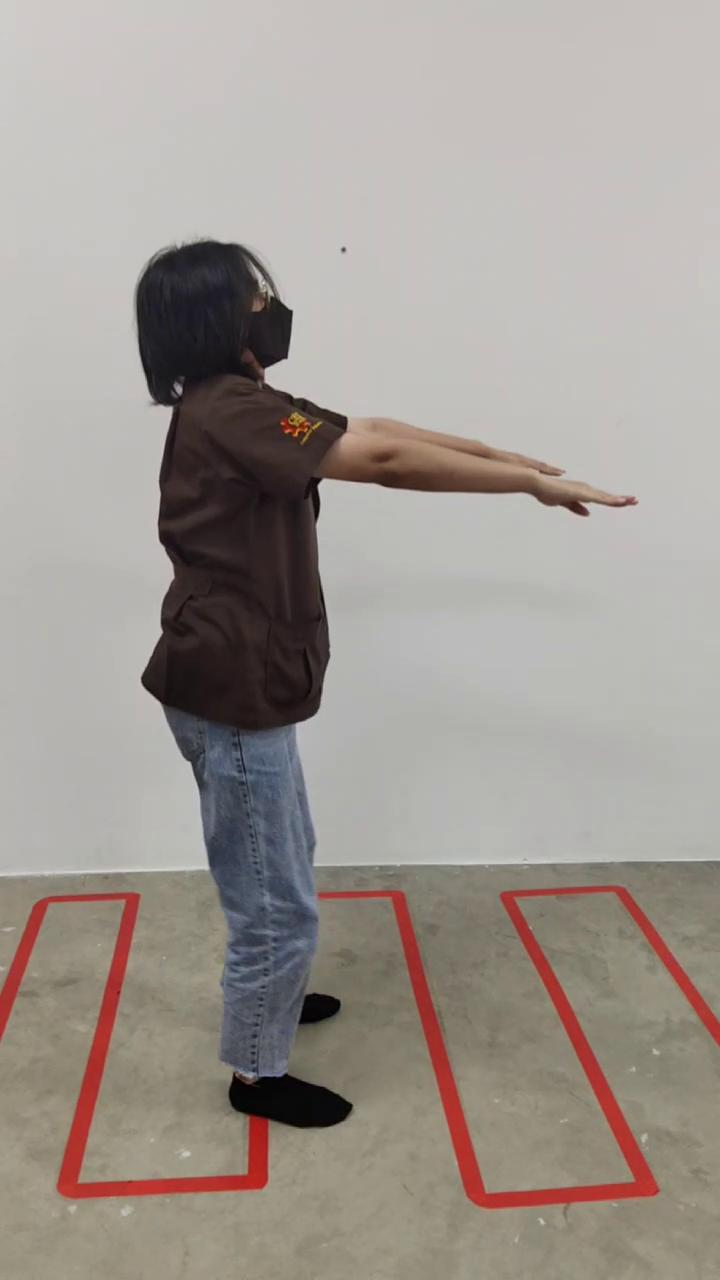squat up: (135, 240, 635, 1124)
